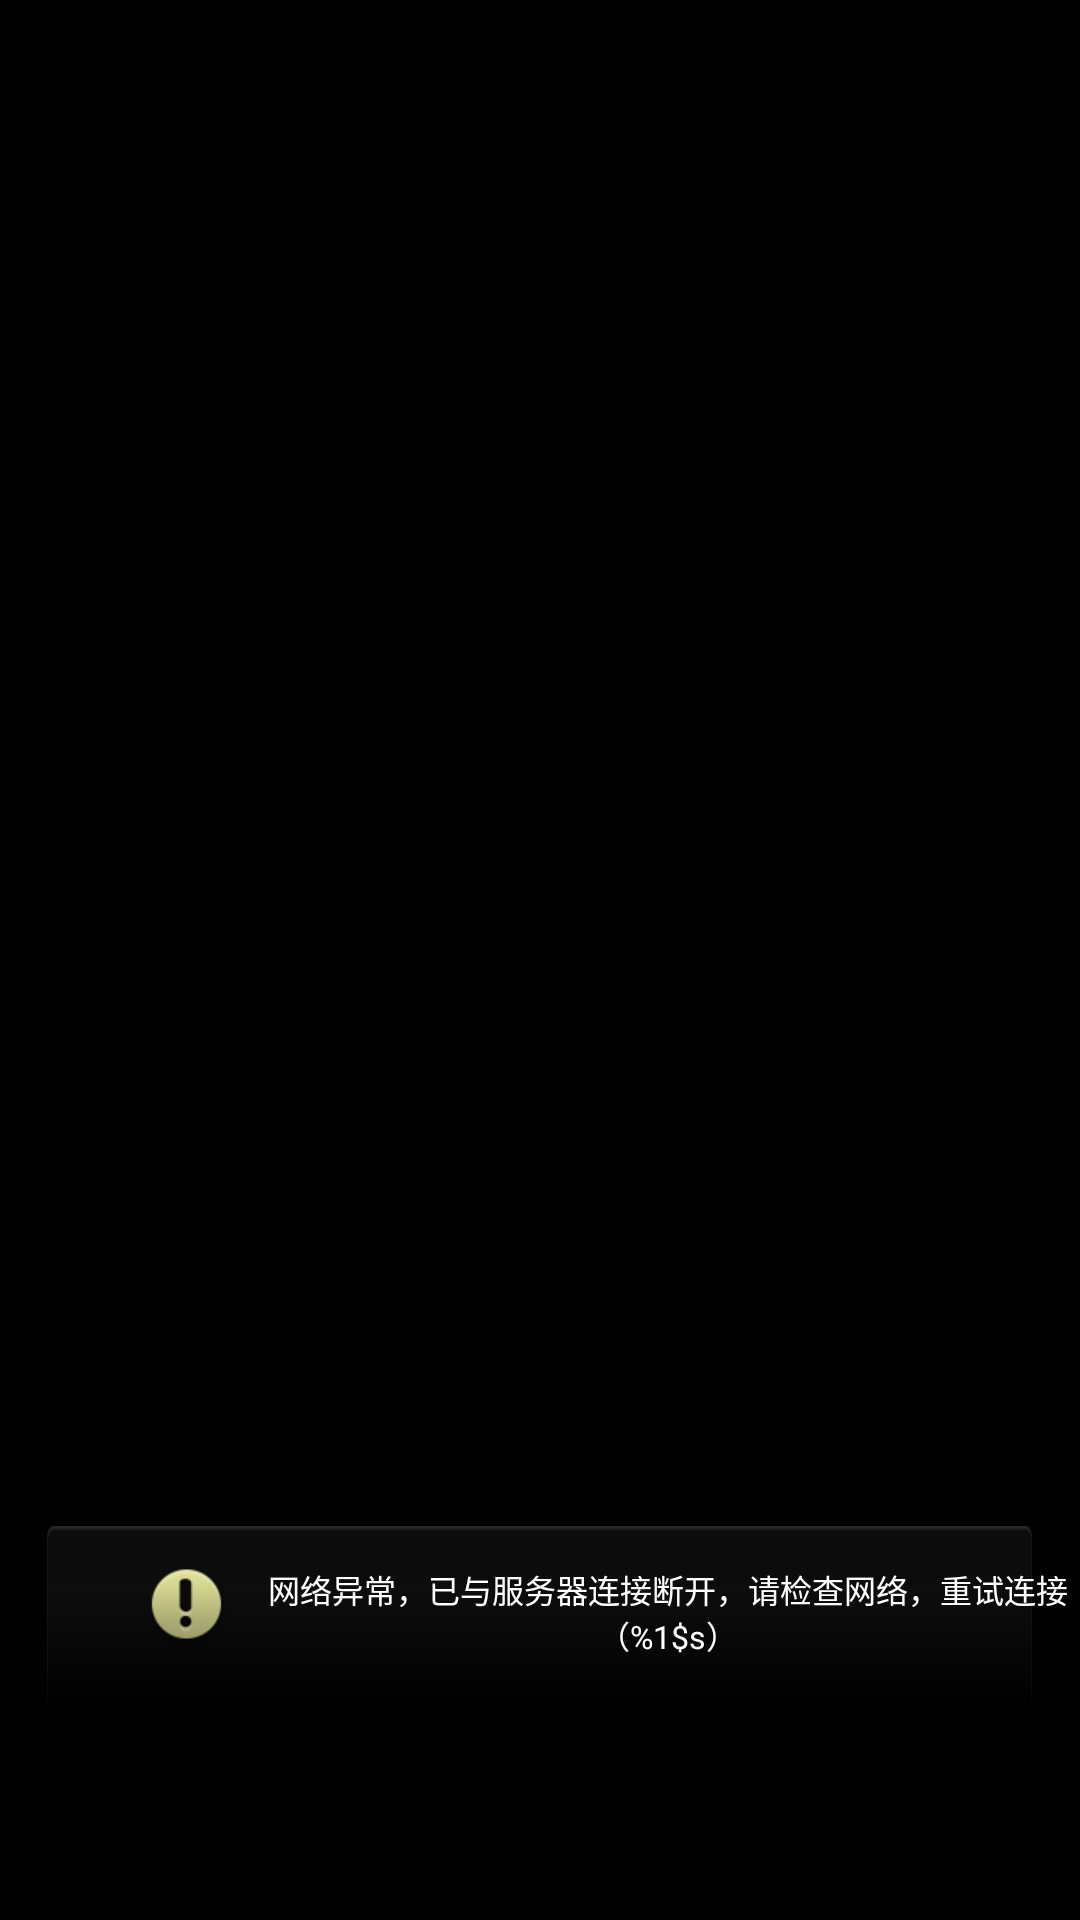

Where icons sit on this 1080*1920 app screen, as bbox=(x1, y1, x2, y2):
warning: bbox=(151, 1569, 222, 1639)
